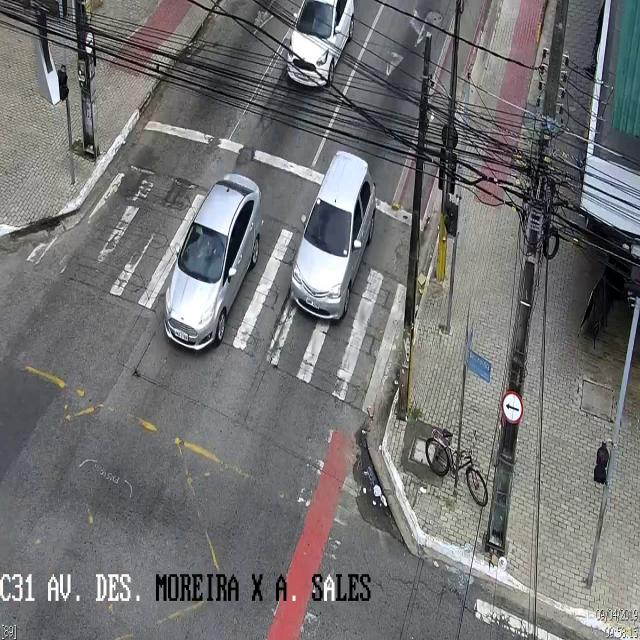Car: (166, 171, 258, 353), (288, 150, 376, 326), (287, 1, 355, 90)
